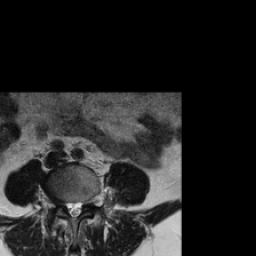CCS_normal: (71, 193, 77, 223)
LFS_severe_stenosis: (83, 191, 91, 208)
LLS_normal: (77, 195, 83, 218)
RFS_severe_stenosis: (57, 192, 64, 211)
RLS_normal: (64, 194, 71, 217)
